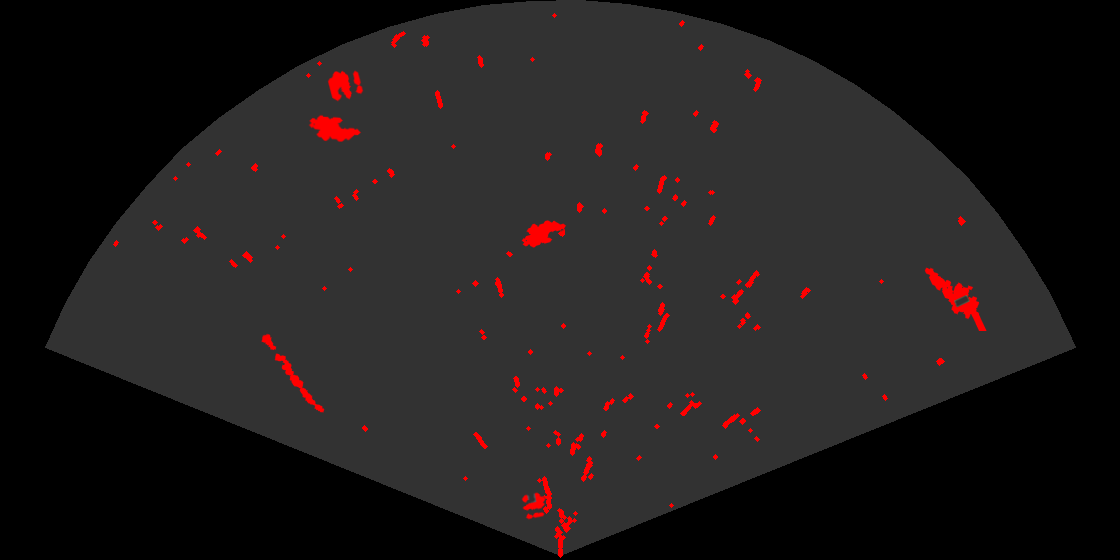AUV: (307, 113, 363, 143), (520, 219, 567, 249)
ball: (326, 69, 365, 103), (520, 491, 547, 521)
chain: (260, 332, 326, 414)
frogman: (923, 266, 988, 331)
